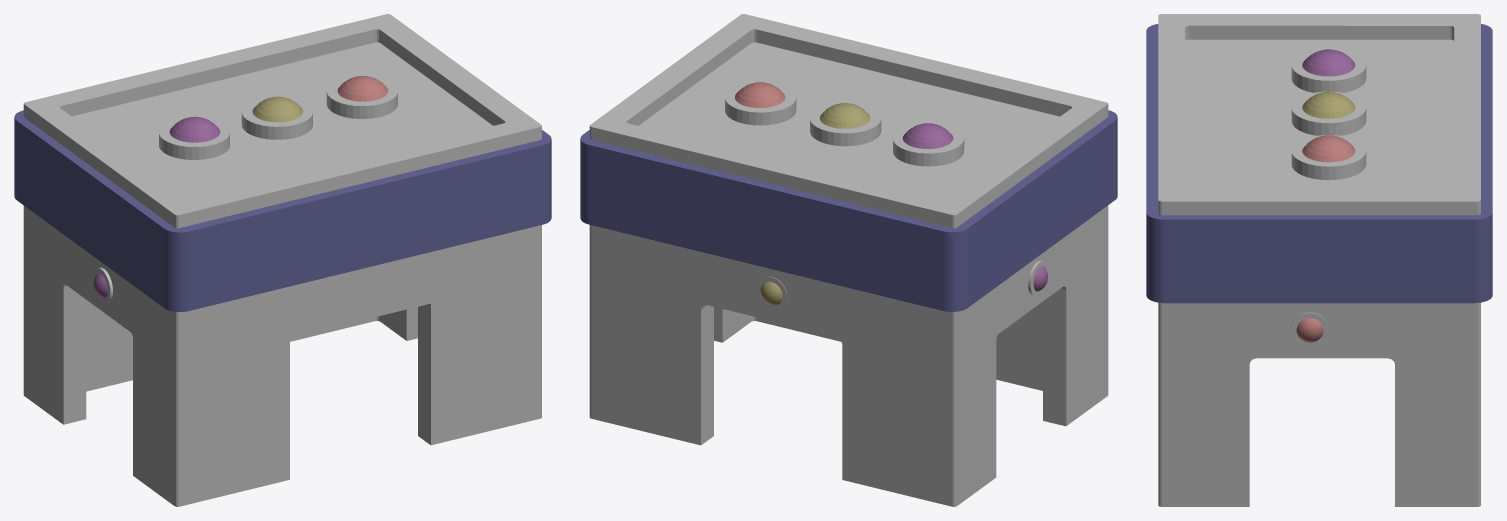
Rendered from stckctrl.glb.
3 views of the same model, side by side, from view 1: azimuth 30°, elevation 25°; view 2: azimuth 150°, elevation 25°; view 3: azimuth 270°, elevation 25° (orthographic). The views are drawn at different scales.
Parts seen in each view (by area): view 1: Walls, Roof, LightBig_02, LightBig_01, LightBig_03, LightSmall_03; view 2: Walls, Roof, LightBig_02, LightBig_01, LightBig_03, LightSmall_02, LightSmall_03; view 3: Walls, Roof, LightBig_01, LightBig_02, LightBig_03, LightSmall_01.
Part boxes in pixels (x1,y1,x2,y2): Walls: [23, 14, 541, 506]; Roof: [14, 42, 551, 311]; LightBig_02: [241, 96, 312, 139]; LightBig_01: [326, 76, 397, 118]; LightBig_03: [159, 116, 229, 159]; LightSmall_03: [92, 267, 113, 303]; Walls: [589, 14, 1108, 506]; Roof: [580, 42, 1117, 311]; LightBig_02: [810, 103, 881, 146]; LightBig_01: [725, 82, 796, 125]; LightBig_03: [893, 123, 964, 166]; LightSmall_02: [755, 276, 787, 310]; LightSmall_03: [1028, 260, 1048, 296]; Walls: [1158, 14, 1480, 506]; Roof: [1146, 24, 1492, 303]; LightBig_01: [1291, 135, 1366, 180]; LightBig_02: [1291, 91, 1366, 135]; LightBig_03: [1291, 49, 1366, 92]; LightSmall_01: [1291, 312, 1328, 347].
Size of the model in its own units: 8.67 by 6.55 by 6.46.
